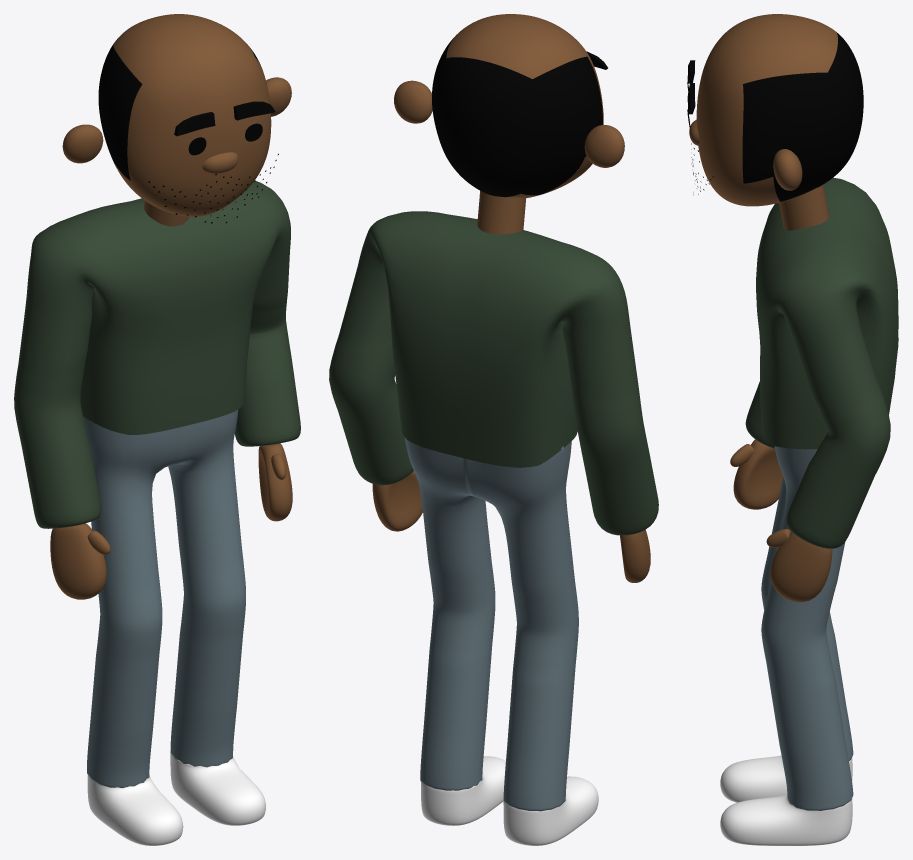
The model's file is grandpaClerk.fbx.
3 views of the same model, side by side, from view 1: azimuth 30°, elevation 25°; view 2: azimuth 150°, elevation 25°; view 3: azimuth 270°, elevation 25° (orthographic).
Visible parts, largest first — view 1: mixed-teen-shirt.001, mixed-teen-pants.001, mixed-teen-head.001, mixed-teen-shoes.001, mixed-teen-hands.001, mixed-teen-ears.001, mixed-teen-nose.001, mixed-teen-eyebrows.002, mixed-teen-eyebrows.003, mixed-teen-neck.001; view 2: mixed-teen-shirt.001, mixed-teen-pants.001, mixed-teen-head.001, mixed-teen-shoes.001, mixed-teen-hands.001, mixed-teen-ears.001, mixed-teen-neck.001; view 3: mixed-teen-shirt.001, mixed-teen-head.001, mixed-teen-pants.001, mixed-teen-shoes.001, mixed-teen-hands.001, mixed-teen-neck.001, mixed-teen-ears.001.
Part boxes in pixels (x1=…): mixed-teen-shirt.001: x1=14, y1=181, x2=300, y2=528; mixed-teen-pants.001: x1=83, y1=409, x2=245, y2=788; mixed-teen-head.001: x1=98, y1=14, x2=271, y2=216; mixed-teen-shoes.001: x1=87, y1=751, x2=265, y2=845; mixed-teen-hands.001: x1=50, y1=443, x2=292, y2=599; mixed-teen-ears.001: x1=62, y1=77, x2=291, y2=163; mixed-teen-nose.001: x1=202, y1=152, x2=238, y2=173; mixed-teen-eyebrows.002: x1=174, y1=112, x2=215, y2=136; mixed-teen-eyebrows.003: x1=233, y1=101, x2=275, y2=120; mixed-teen-neck.001: x1=144, y1=201, x2=189, y2=226; mixed-teen-shirt.001: x1=329, y1=211, x2=658, y2=535; mixed-teen-pants.001: x1=404, y1=437, x2=578, y2=811; mixed-teen-head.001: x1=432, y1=14, x2=603, y2=197; mixed-teen-shoes.001: x1=421, y1=756, x2=598, y2=845; mixed-teen-hands.001: x1=372, y1=471, x2=650, y2=582; mixed-teen-ears.001: x1=394, y1=80, x2=624, y2=167; mixed-teen-neck.001: x1=477, y1=190, x2=526, y2=234; mixed-teen-shirt.001: x1=745, y1=177, x2=898, y2=548; mixed-teen-head.001: x1=696, y1=14, x2=863, y2=206; mixed-teen-pants.001: x1=761, y1=446, x2=853, y2=810; mixed-teen-shoes.001: x1=720, y1=755, x2=852, y2=845; mixed-teen-hands.001: x1=730, y1=439, x2=832, y2=602; mixed-teen-neck.001: x1=779, y1=185, x2=828, y2=230; mixed-teen-ears.001: x1=773, y1=149, x2=802, y2=190.
Bounding box in the file's own units: 218 × 576 × 139.
